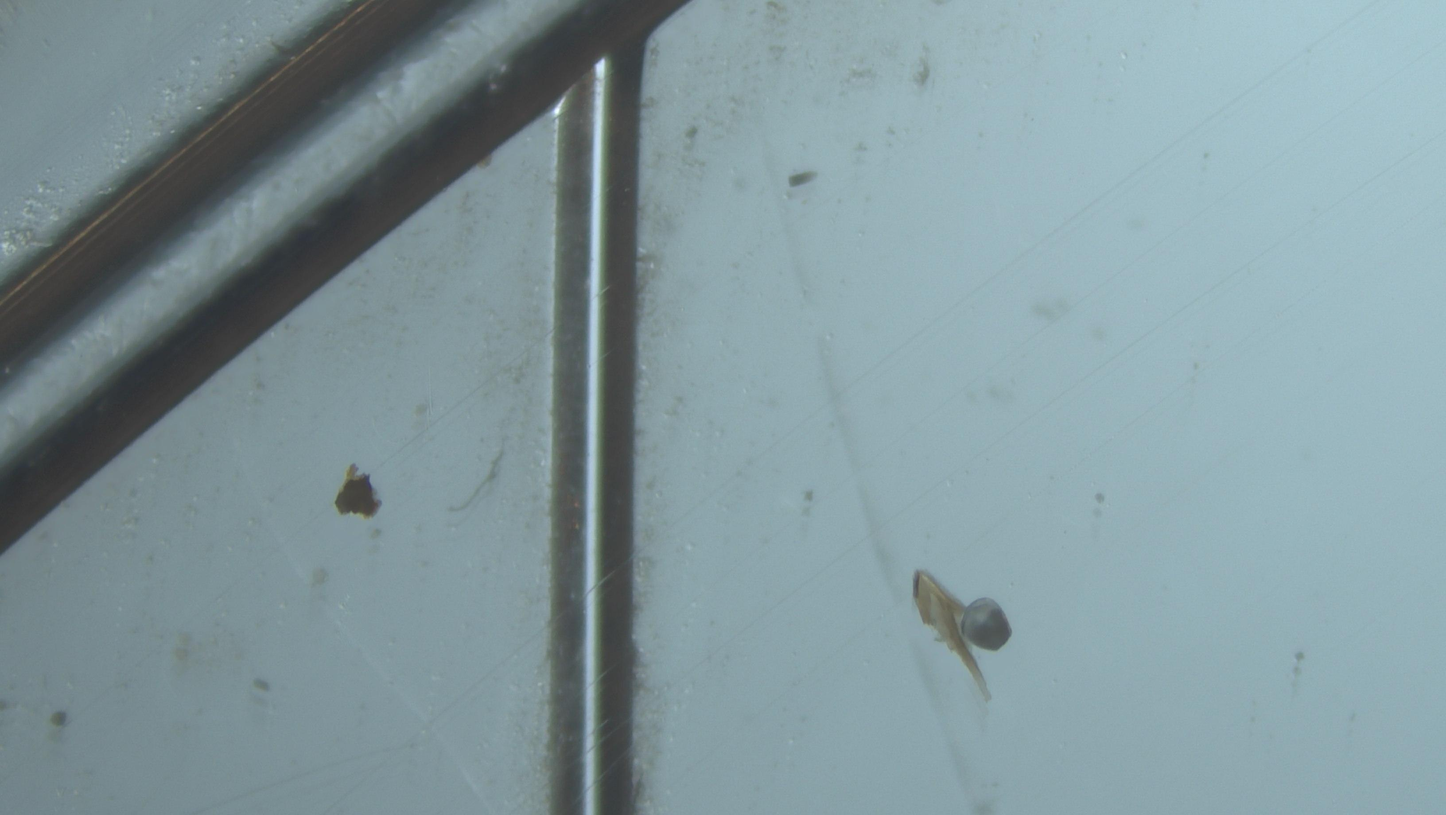live: (960, 598, 1011, 651)
